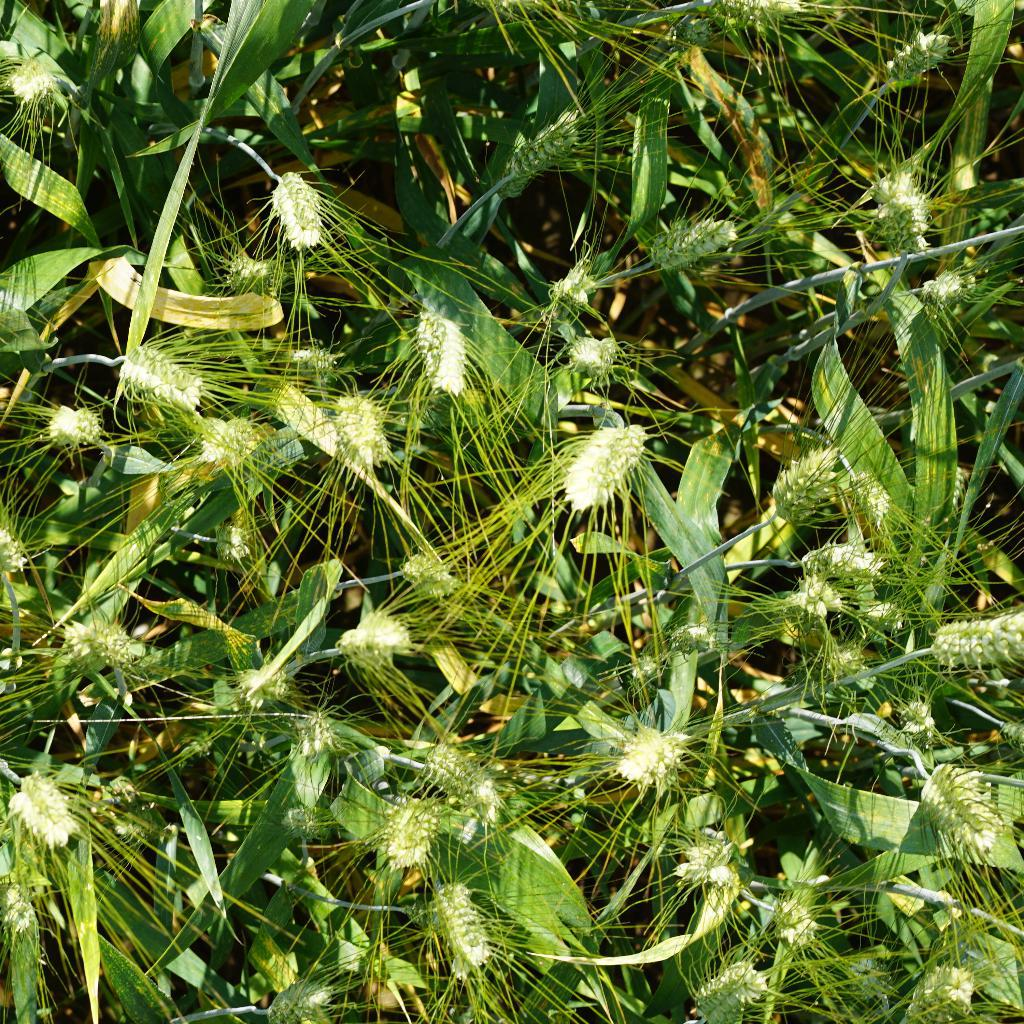0-0: (556, 396, 651, 522), (479, 94, 586, 205), (908, 747, 1008, 848), (98, 337, 217, 414), (855, 165, 942, 269), (421, 866, 505, 970), (407, 742, 504, 828), (408, 294, 484, 400), (10, 768, 88, 859), (376, 788, 449, 881), (613, 716, 694, 799), (926, 605, 1024, 673), (763, 447, 848, 524), (265, 162, 337, 252), (635, 216, 739, 276), (318, 387, 389, 473), (683, 948, 763, 1024), (64, 617, 159, 680), (841, 459, 915, 539), (866, 25, 956, 89), (337, 608, 428, 671), (893, 959, 979, 1024), (178, 408, 262, 474), (673, 828, 762, 890), (223, 654, 302, 720), (557, 324, 643, 384), (26, 391, 109, 453), (215, 239, 301, 298), (793, 545, 889, 597), (768, 896, 828, 970), (100, 793, 180, 847), (772, 574, 845, 633), (390, 547, 468, 602), (912, 271, 997, 321), (0, 49, 68, 111), (699, 0, 815, 35), (261, 974, 340, 1024), (803, 627, 873, 681), (888, 688, 952, 746), (543, 262, 601, 321), (832, 950, 894, 1005), (269, 340, 344, 383), (669, 606, 729, 658), (0, 873, 47, 937), (294, 706, 339, 770), (664, 10, 727, 55), (279, 795, 335, 845), (855, 591, 913, 634), (0, 514, 29, 587), (205, 521, 253, 565), (625, 647, 669, 694)
